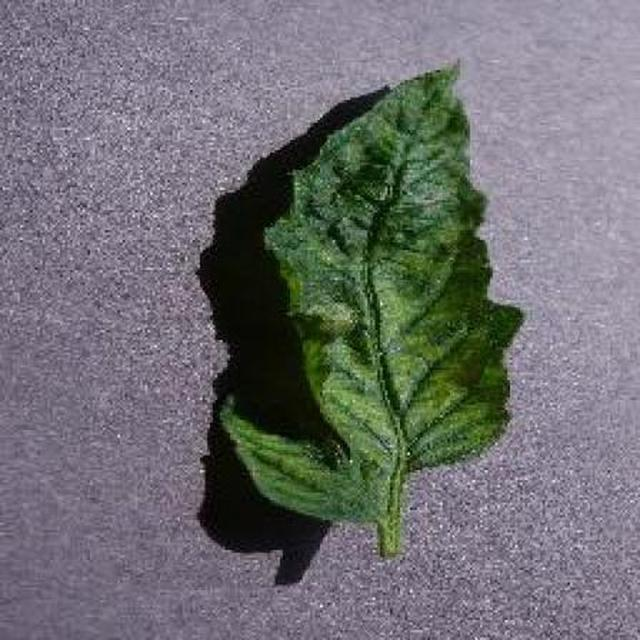Mosaic Virus Leaf: (309, 96, 640, 640)
